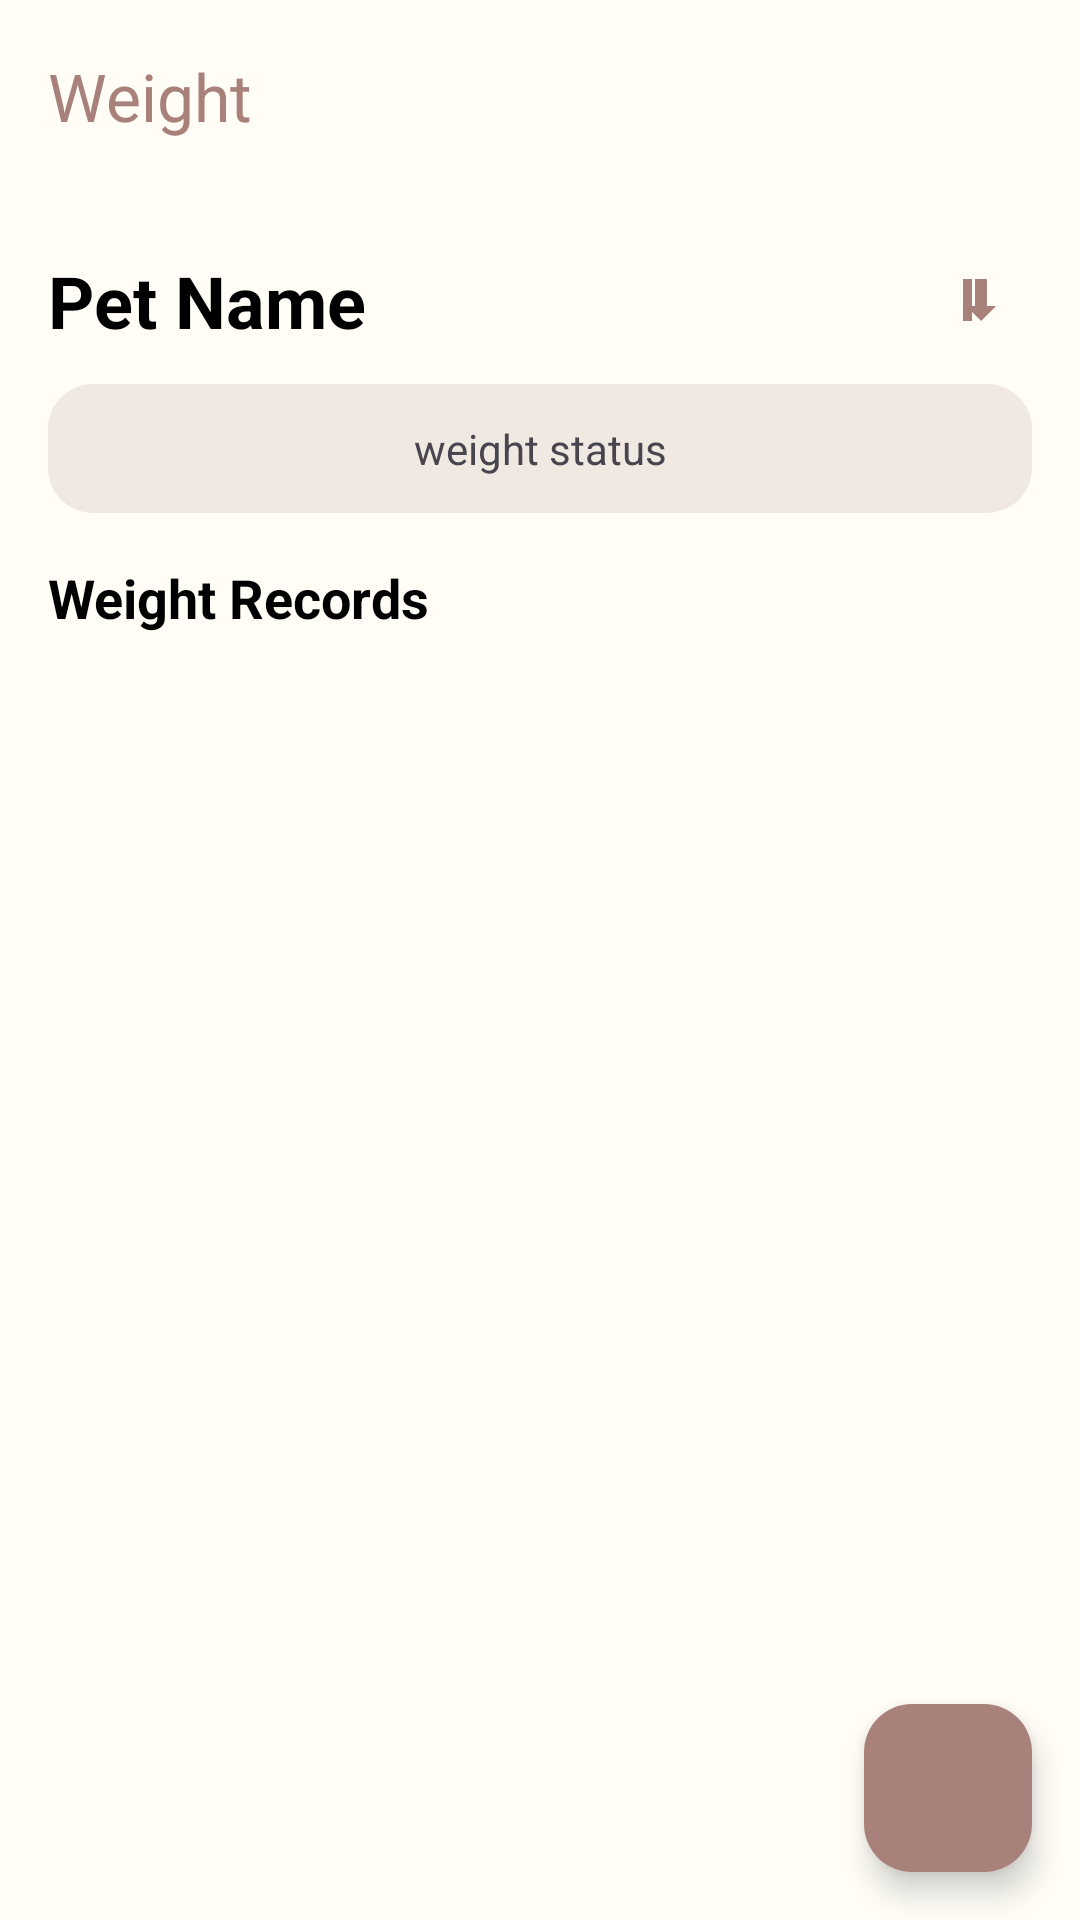

Icon click points for this 1080x1920 phone screenshot, format point (x, y):
sort descending: point (979, 300)
